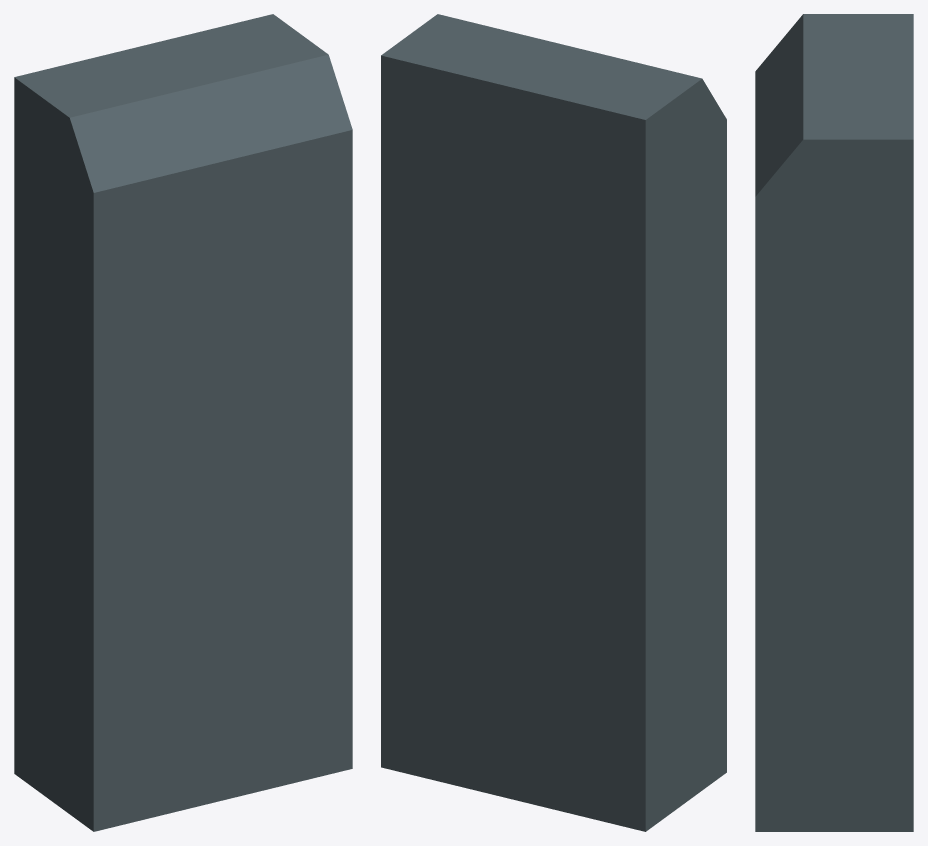
The model's file is Wall 01.FBX.
3 renders of one model, left to right at view 1: azimuth 30°, elevation 25°; view 2: azimuth 150°, elevation 25°; view 3: azimuth 270°, elevation 25°, orthographic. The views are drawn at different scales.
Parts seen in each view (by area): view 1: Wall 01; view 2: Wall 01; view 3: Wall 01.
Boxes of the visible parts, bbox=[...] form: Wall 01: bbox=[14, 14, 352, 831]; Wall 01: bbox=[381, 14, 726, 831]; Wall 01: bbox=[755, 14, 913, 831].
Bounding box in the file's own units: 200 × 513 × 106.
